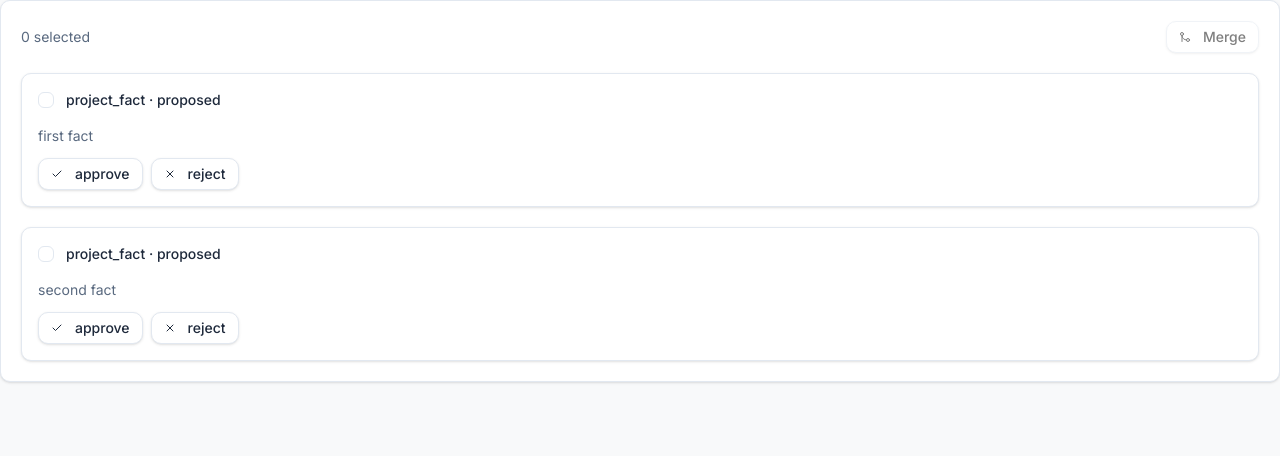
Scenario: MemoryInbox › sends only candidate IDs and merged content so the daemon derives authoritative evidence
This screenshot has width=1280, height=456.
Click the 1st checkbox named "Select candidate" at (46, 100), box [38,92,54,108]
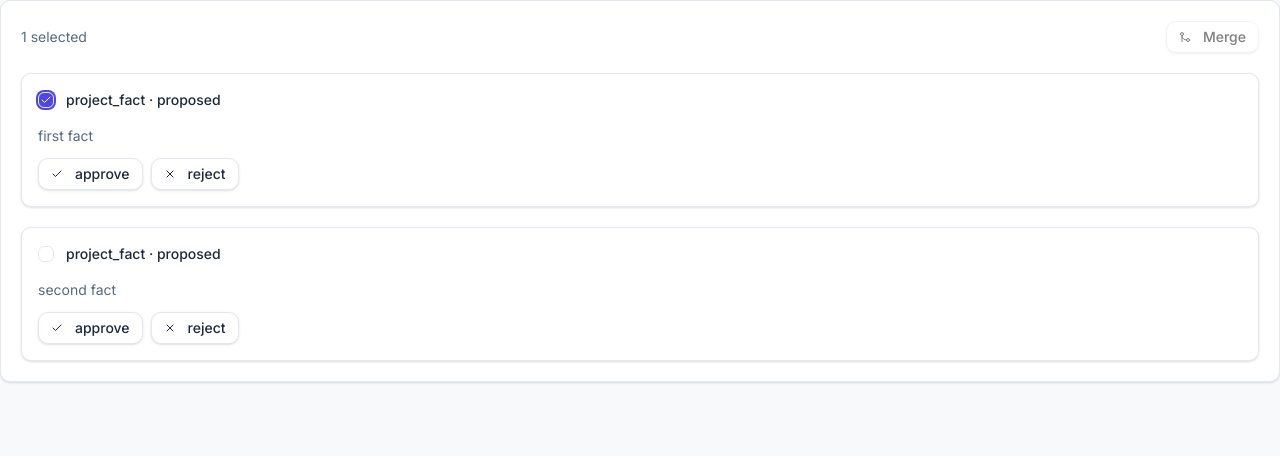
Click the 2nd checkbox named "Select candidate" at (46, 254), box [38,246,54,262]
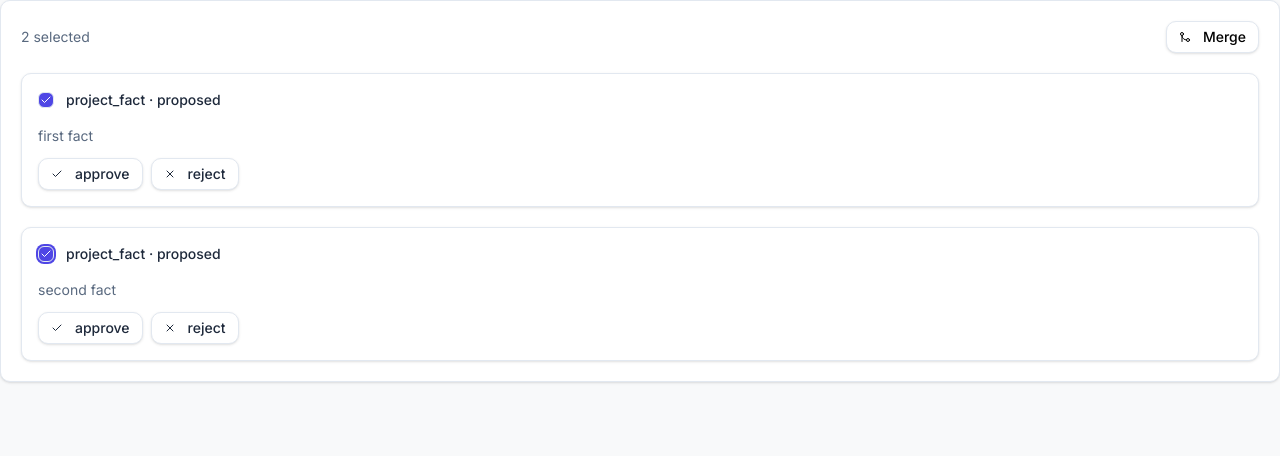
Click the button "Merge" at (1212, 37), box [1166,21,1259,53]
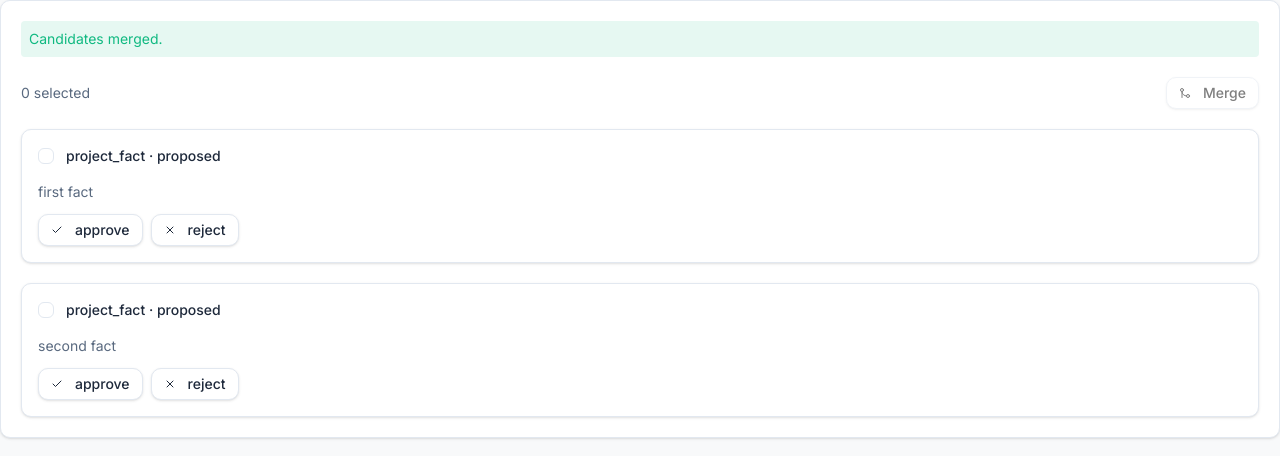
Check: the text "Candidates merged." is shown, box [21,21,1259,57]
